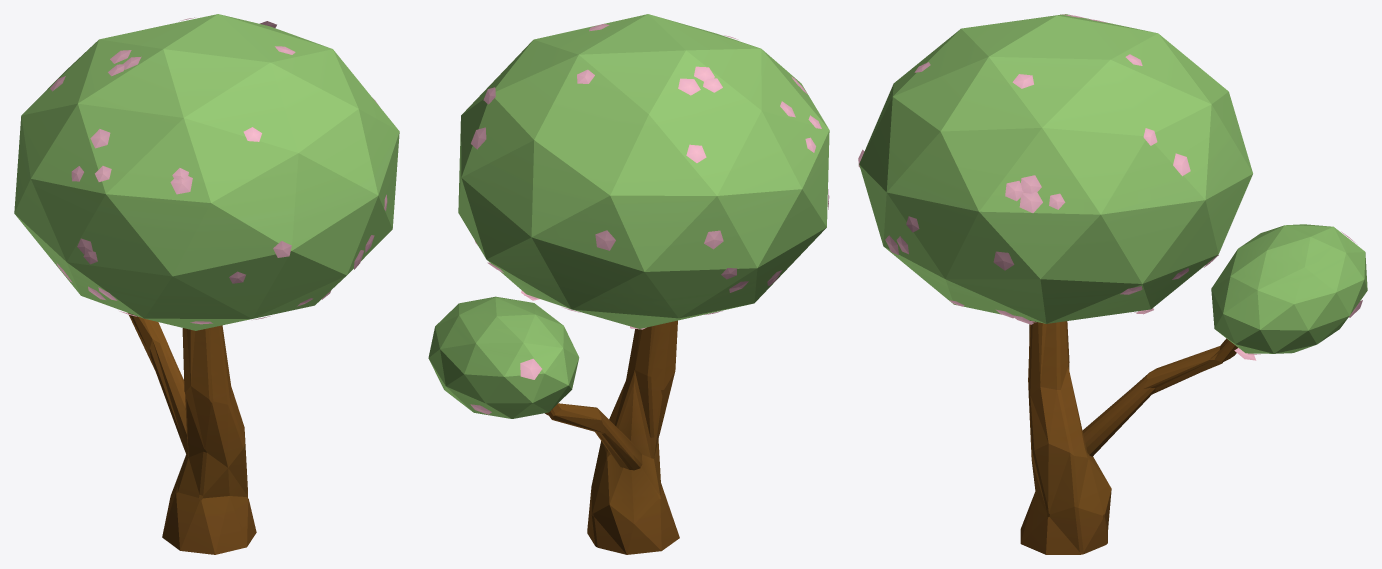
Rendered from tree_fruit.glb.
The picture shows the model from 3 angles, left to right: view 1: azimuth 30°, elevation 25°; view 2: azimuth 150°, elevation 25°; view 3: azimuth 270°, elevation 25°; orthographic projection.
Visible parts, largest first — view 1: Poplar Tree_1_AA.001; view 2: Poplar Tree_1_AA.001; view 3: Poplar Tree_1_AA.001.
Boxes of the visible parts, left/top/right/bottom form: Poplar Tree_1_AA.001: left=14, top=14, right=399, bottom=554; Poplar Tree_1_AA.001: left=428, top=14, right=829, bottom=554; Poplar Tree_1_AA.001: left=858, top=14, right=1367, bottom=554.
Size of the model in its own units: 2.24 by 3.19 by 2.96.
Materials: 1 (1 with a texture image).
